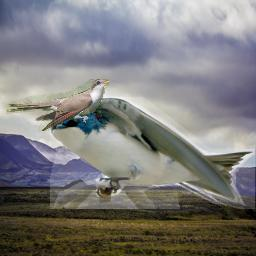Cuckoo: (6, 79, 109, 131)
Swallow: (50, 97, 255, 209)
